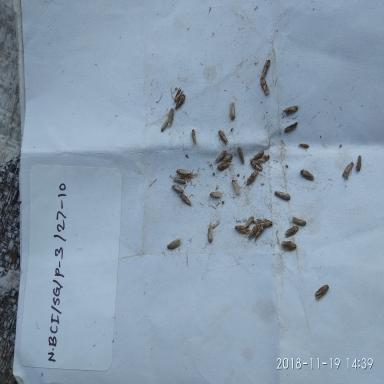pbw: (169, 180, 188, 198), (226, 222, 250, 236), (314, 282, 330, 302), (284, 222, 300, 241), (248, 158, 264, 176), (226, 99, 238, 123), (284, 117, 300, 135), (257, 75, 270, 97), (281, 102, 301, 116), (247, 222, 260, 243), (300, 168, 317, 184), (280, 237, 298, 252), (216, 127, 230, 146), (170, 85, 184, 103), (259, 58, 271, 79), (256, 150, 270, 168), (246, 169, 260, 187), (178, 192, 194, 207), (342, 160, 354, 180), (242, 212, 256, 229), (166, 237, 183, 251), (174, 93, 186, 112), (291, 214, 308, 227), (354, 153, 364, 175), (176, 166, 194, 178), (273, 190, 291, 202), (190, 127, 200, 147), (167, 107, 176, 129), (231, 178, 242, 196), (208, 218, 222, 232), (216, 160, 232, 172), (252, 147, 264, 163), (206, 222, 214, 246), (236, 145, 245, 166), (215, 147, 226, 164), (254, 218, 274, 227), (160, 116, 171, 132), (171, 175, 187, 186), (222, 150, 234, 164), (208, 188, 223, 199), (298, 139, 312, 150)
